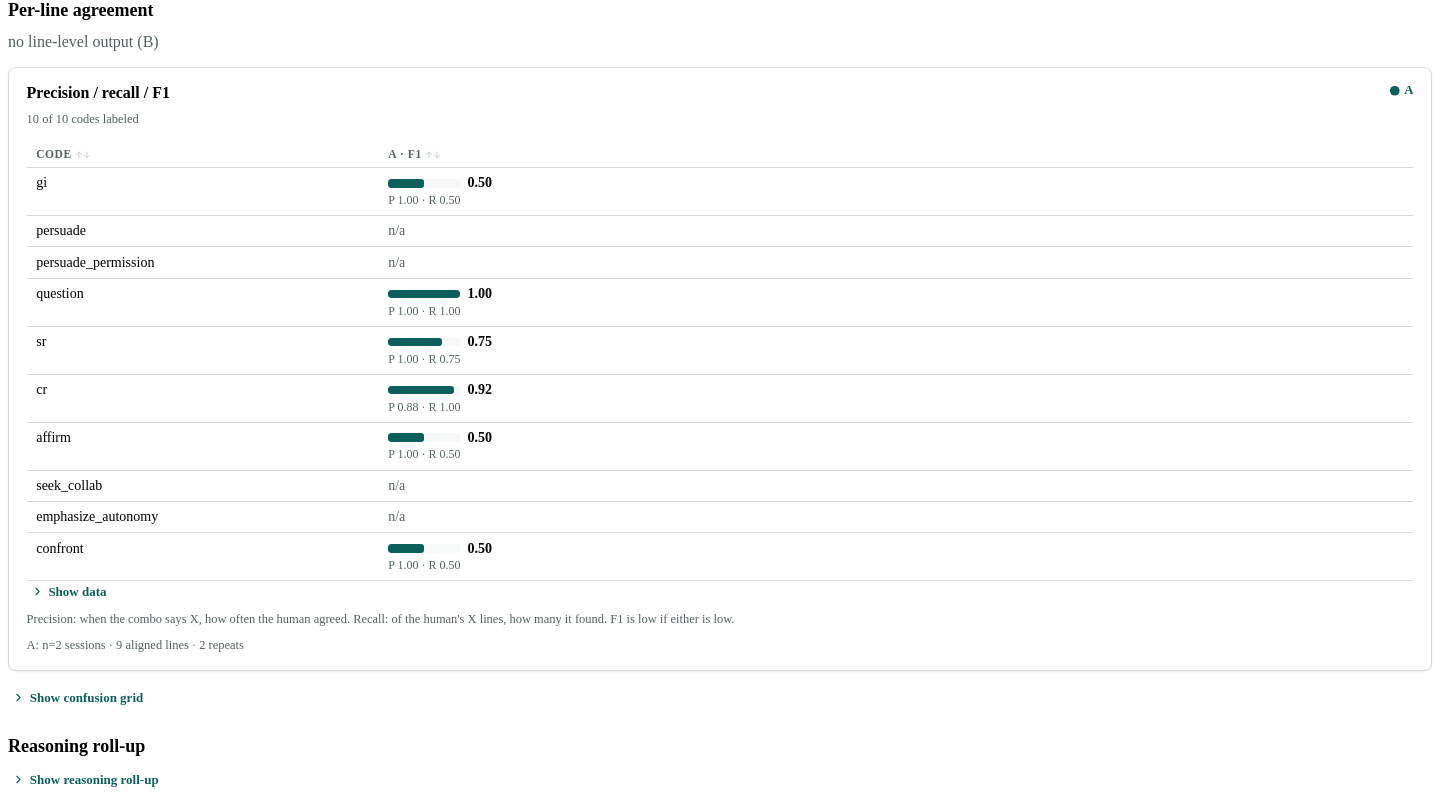
it: keeps confusion totals plus multi equal aligned lines and resolves matching sessions in one request
This screenshot has width=1440, height=798.
(page scrolled)
Click the button "Show confusion grid".
click(78, 698)  # box [8,688,147,708]
(page scrolled)
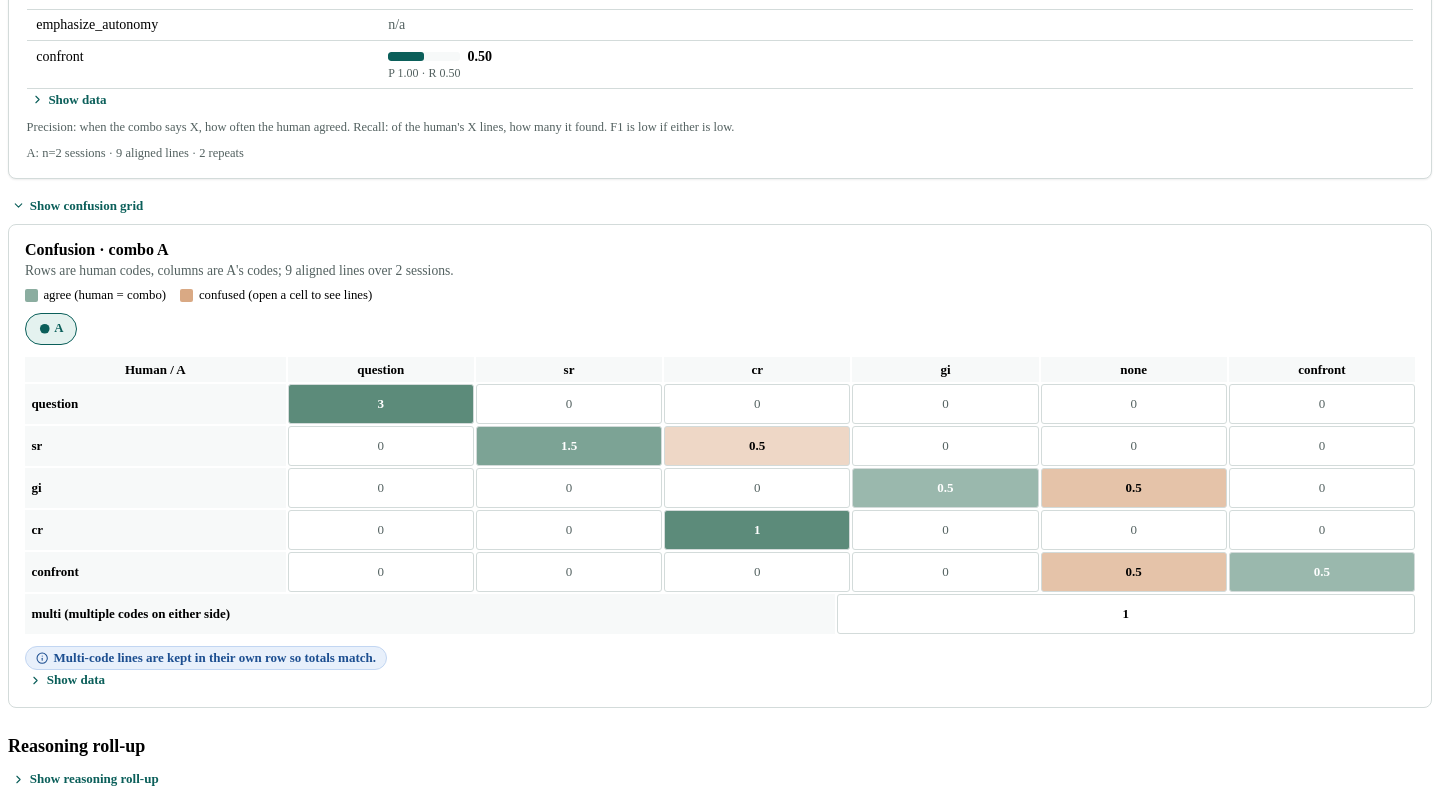
Click the button named "Human question, A question:".
click(381, 404)  # box [288,384,474,424]
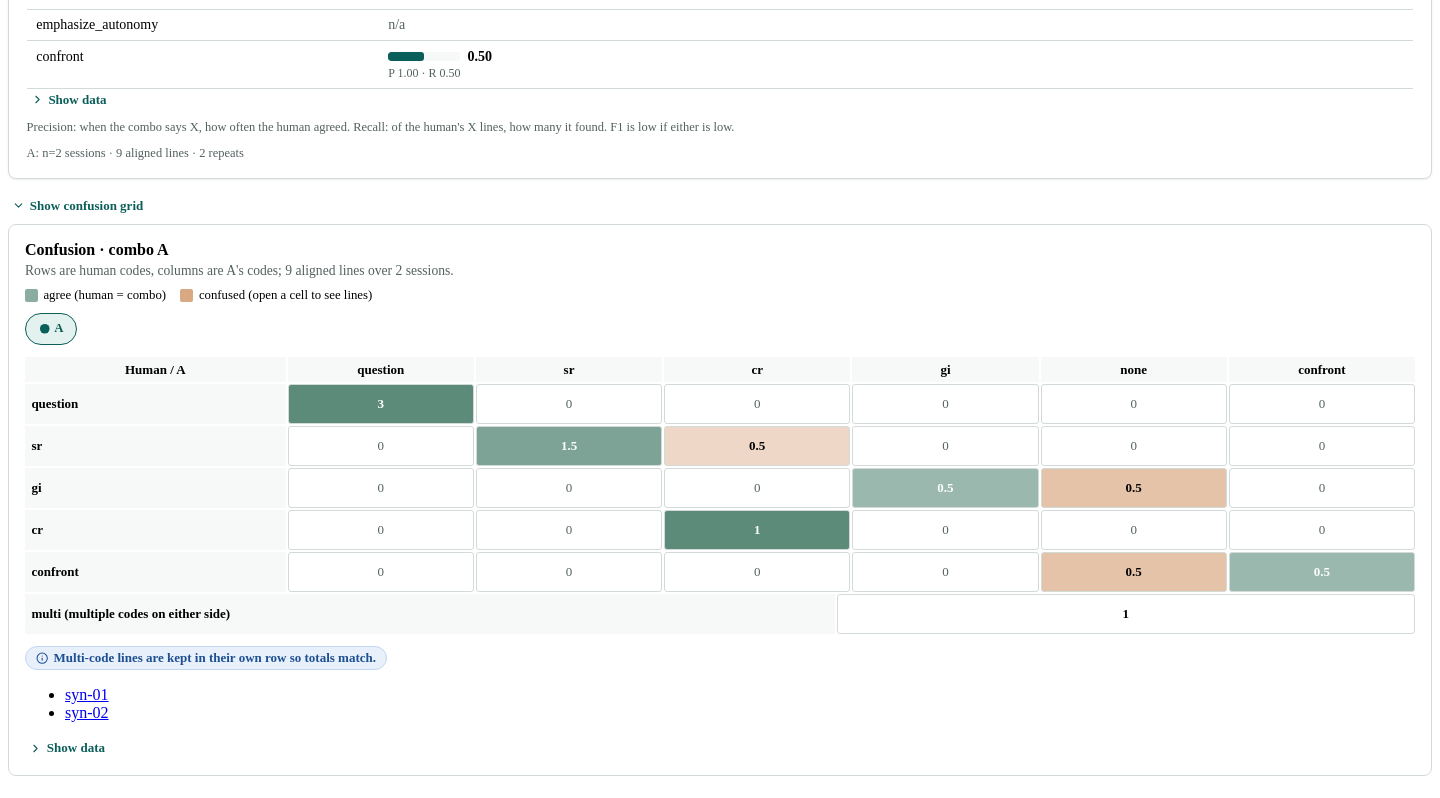
Expected: the link "syn-01" is shown, [65,686,109,703]
